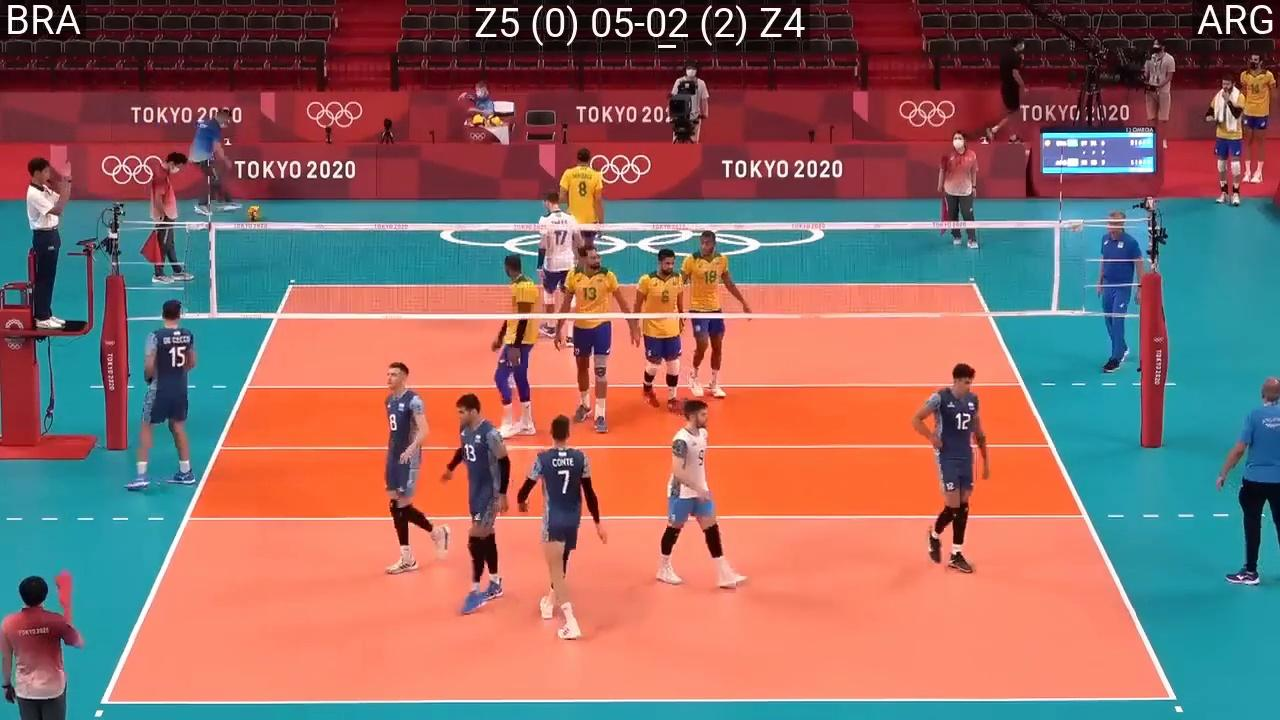ball: (248, 207, 260, 222)
